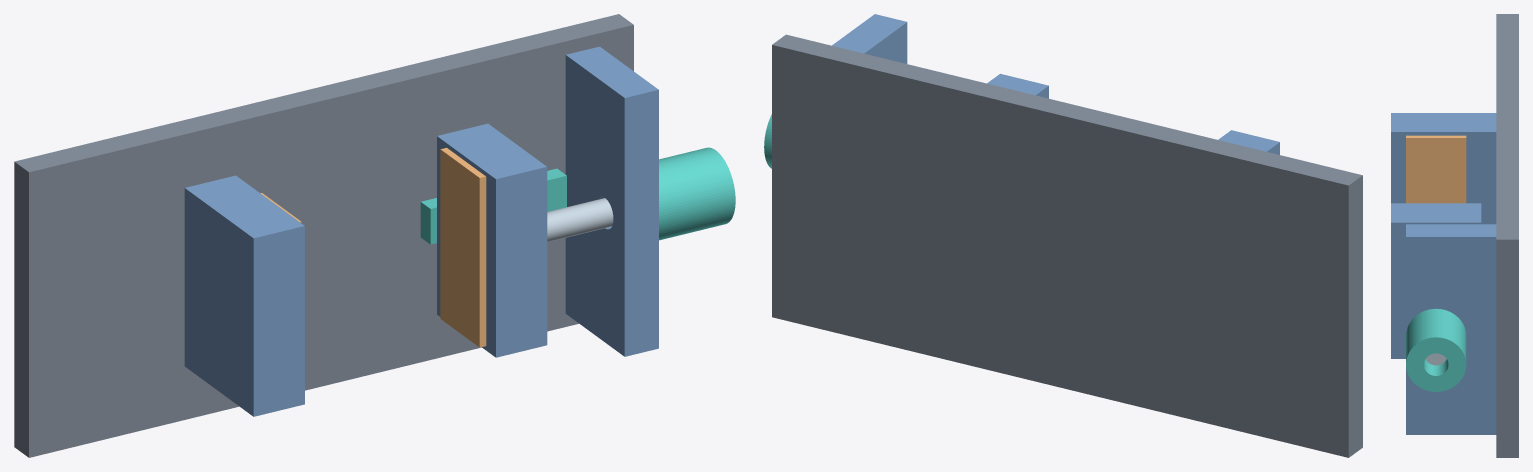
Rendered from assembly.glb.
The picture shows the model from 3 angles, left to right: view 1: azimuth 30°, elevation 25°; view 2: azimuth 150°, elevation 25°; view 3: azimuth 270°, elevation 25°; orthographic projection. The views are drawn at different scales.
Parts seen in each view (by area): view 1: base, fixed_jaw, actuator_support, moving_jaw, moving_pad, actuator_body, rod, rail_central; view 2: base, actuator_support, moving_jaw, fixed_jaw; view 3: actuator_support, base, fixed_jaw, actuator_body, fixed_pad, moving_jaw, rod.
Part boxes in pixels (<box>): base: <box>14,14,633,457</box>; fixed_jaw: <box>184,175,304,416</box>; actuator_support: <box>565,46,658,356</box>; moving_jaw: <box>437,123,547,357</box>; moving_pad: <box>440,147,486,347</box>; actuator_body: <box>659,147,735,240</box>; rod: <box>547,198,613,242</box>; rail_central: <box>420,168,566,244</box>; base: <box>772,34,1362,457</box>; actuator_support: <box>832,14,907,63</box>; moving_jaw: <box>987,73,1048,98</box>; fixed_jaw: <box>1218,130,1279,154</box>; actuator_support: <box>1406,224,1496,434</box>; base: <box>1496,14,1518,457</box>; fixed_jaw: <box>1391,113,1496,224</box>; actuator_body: <box>1406,308,1466,391</box>; fixed_pad: <box>1406,135,1466,203</box>; moving_jaw: <box>1391,203,1481,358</box>; rod: <box>1426,353,1446,365</box>.
Size of the model in its own units: 0.1774 by 0.0748 by 0.0397.
